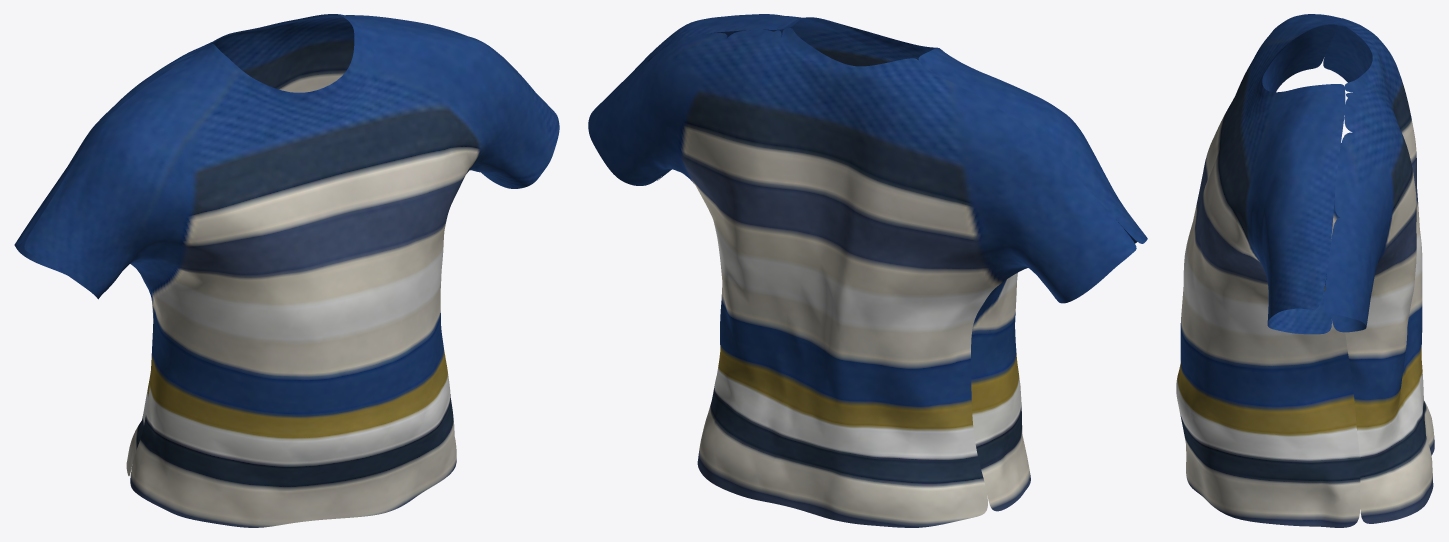
The model's file is TM_XLM.dae.
3 renders of one model, left to right at view 1: azimuth 30°, elevation 25°; view 2: azimuth 150°, elevation 25°; view 3: azimuth 270°, elevation 25°, orthographic. The views are drawn at different scales.
Visible parts, largest first — view 1: tshirt; view 2: tshirt; view 3: tshirt.
Part boxes in pixels (x1=…): tshirt: x1=14, y1=14, x2=559, y2=527; tshirt: x1=588, y1=14, x2=1147, y2=527; tshirt: x1=1176, y1=14, x2=1434, y2=527.
Bounding box in the file's own units: 6.85 × 5.3 × 3.01.
